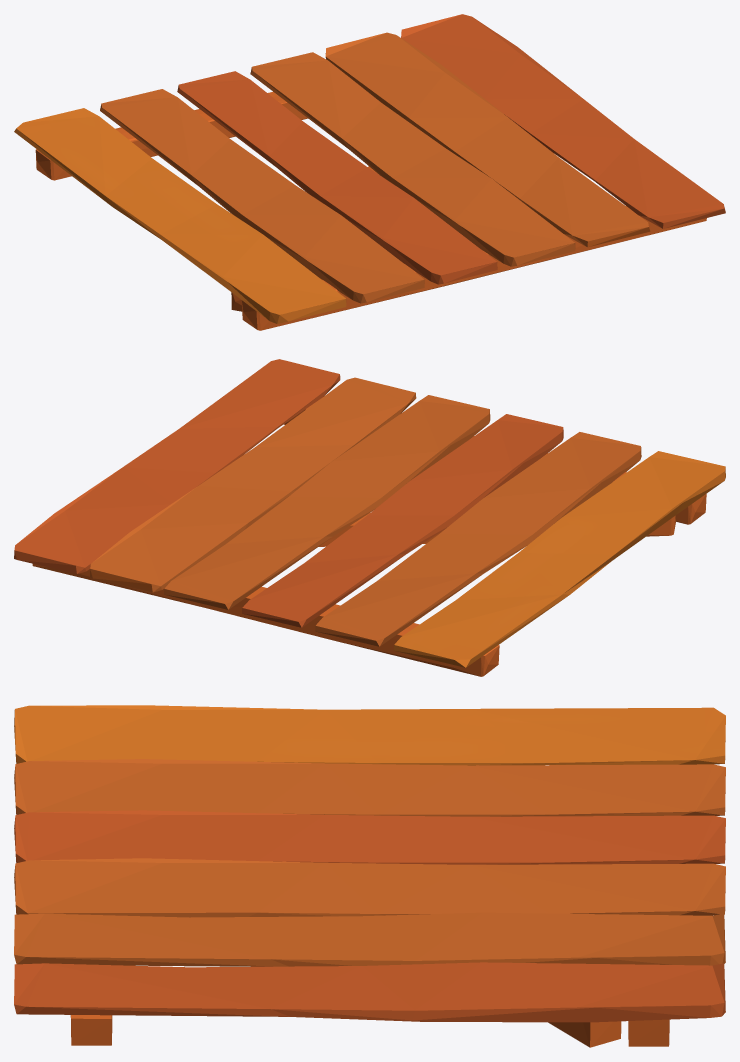
File: Floor.fbx
3 views of the same model, one above another, from view 1: azimuth 30°, elevation 25°; view 2: azimuth 150°, elevation 25°; view 3: azimuth 270°, elevation 25° (orthographic). The views are drawn at different scales.
Parts seen in each view (by area): view 1: Floor; view 2: Floor; view 3: Floor.
Part boxes in pixels (x1,y1,x2,y2): Floor: (14,14,725,330); Floor: (14,359,725,676); Floor: (14,705,725,1047).
Size of the model in its own units: 3.02 by 0.2084 by 3.
